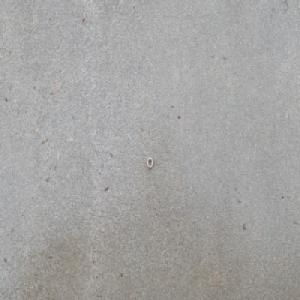Nut: (146, 156, 153, 169)
